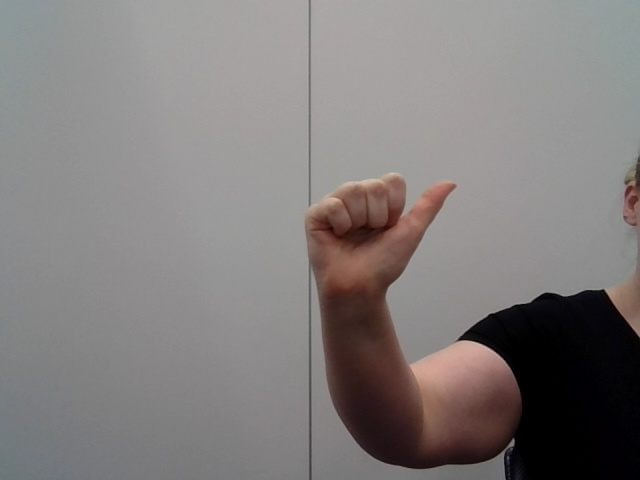left: (286, 162, 471, 312)
